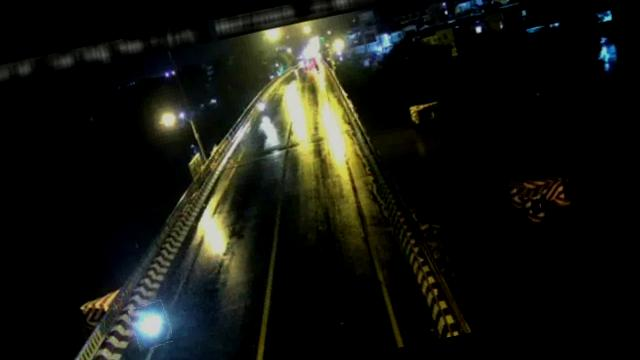Bike: (129, 300, 174, 350)
